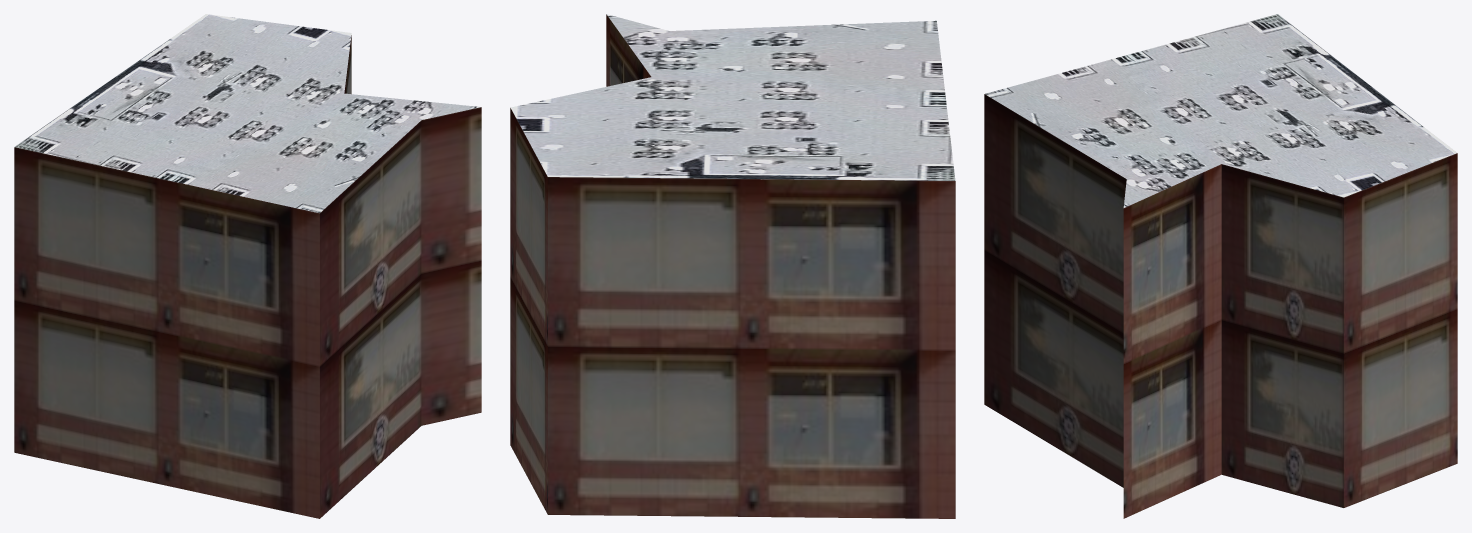
File: ResTex__3546.fbx
3 renders of one model, left to right at view 1: azimuth 30°, elevation 25°; view 2: azimuth 150°, elevation 25°; view 3: azimuth 270°, elevation 25°, orthographic. The views are drawn at different scales.
Visible parts, largest first — view 1: CityEngineMaterial_13_m, CityEngineMaterial_4_m; view 2: CityEngineMaterial_13_m, CityEngineMaterial_4_m; view 3: CityEngineMaterial_13_m, CityEngineMaterial_4_m.
Boxes of the visible parts, box(x1,y1,x2,y2) form: CityEngineMaterial_13_m: box(14, 35, 481, 518); CityEngineMaterial_4_m: box(14, 14, 480, 213); CityEngineMaterial_13_m: box(510, 14, 955, 518); CityEngineMaterial_4_m: box(510, 14, 955, 180); CityEngineMaterial_13_m: box(984, 94, 1457, 518); CityEngineMaterial_4_m: box(985, 14, 1456, 207).
Size of the model in its own units: 8.05 by 6 by 8.28.
2 materials, 2 textured.
